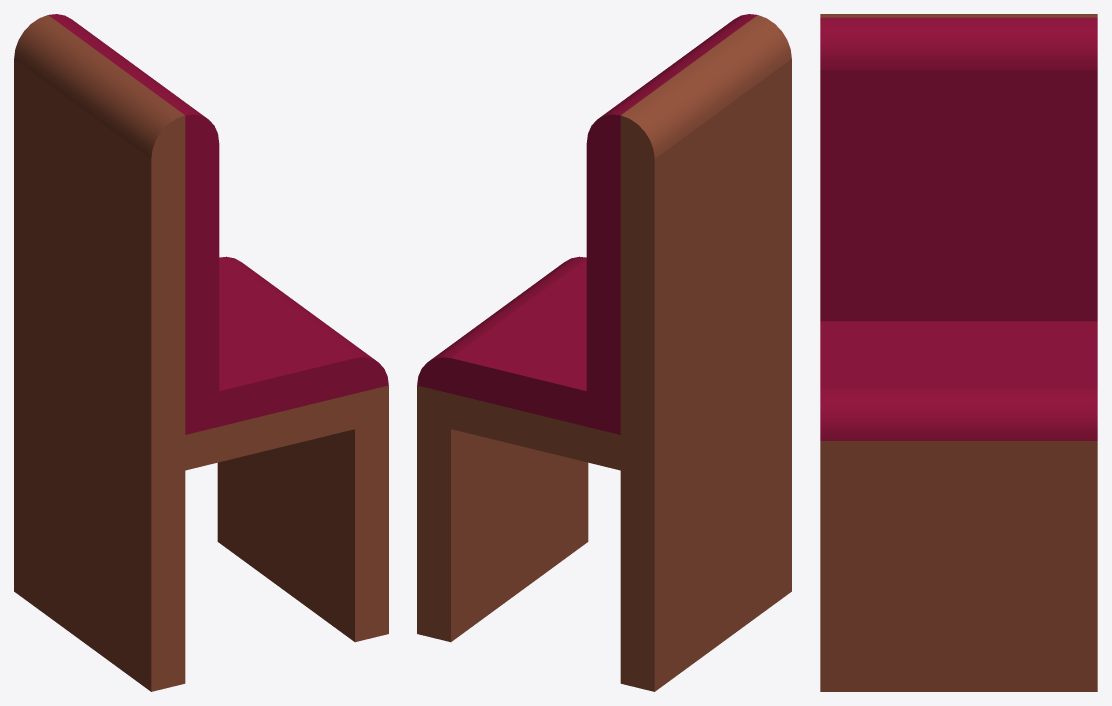
Rendered from chair idk.glb.
3 renders of one model, left to right at view 1: azimuth 30°, elevation 25°; view 2: azimuth 150°, elevation 25°; view 3: azimuth 270°, elevation 25°, orthographic.
Parts seen in each view (by area): view 1: generated(Clone); view 2: generated(Clone); view 3: generated(Clone).
Boxes of the visible parts, bbox=[...] form: generated(Clone): bbox=[14, 14, 388, 691]; generated(Clone): bbox=[417, 14, 791, 691]; generated(Clone): bbox=[820, 14, 1097, 691].
Size of the model in its own units: 7 by 16 by 7.
